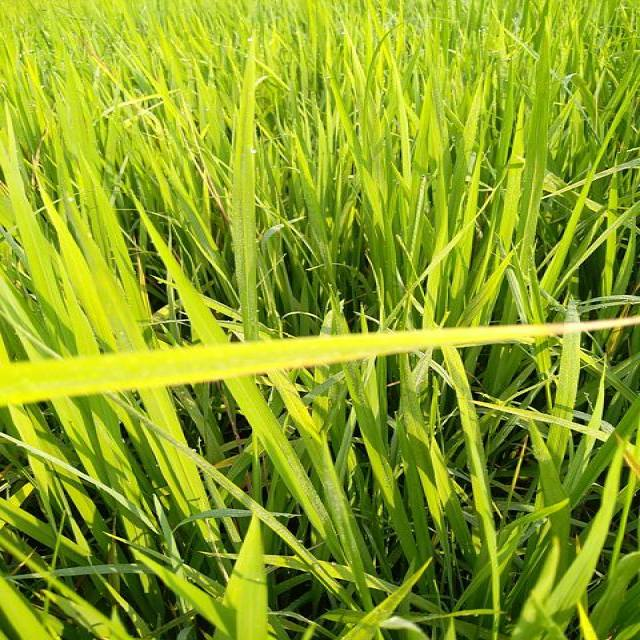Leaf Blight: (0, 320, 639, 405)
